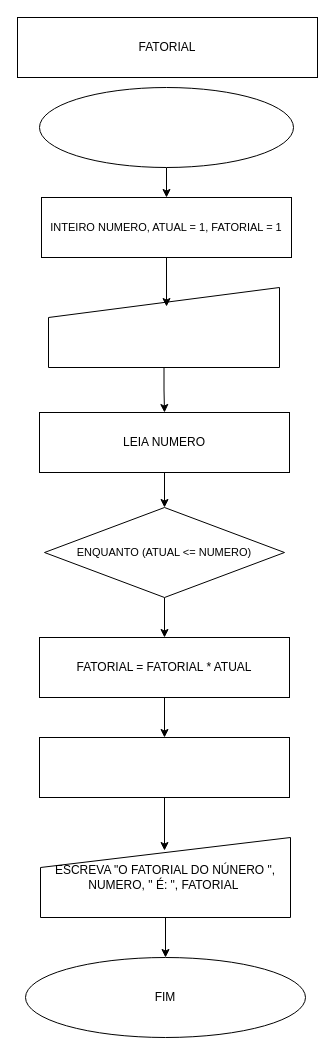
Image size: 335x1055. Some labels were removed from this diagram. Each missing label, with the box of its shape:
ATUAL = ATUAL + 1: (38, 736, 290, 798)
ESCREVA UM NUMERO: (48, 286, 280, 368)
INICIO: (38, 86, 294, 168)
